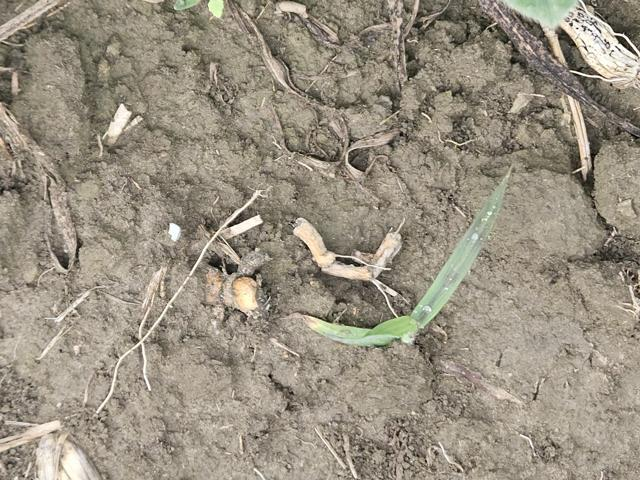bad weed: (307, 161, 523, 385)
